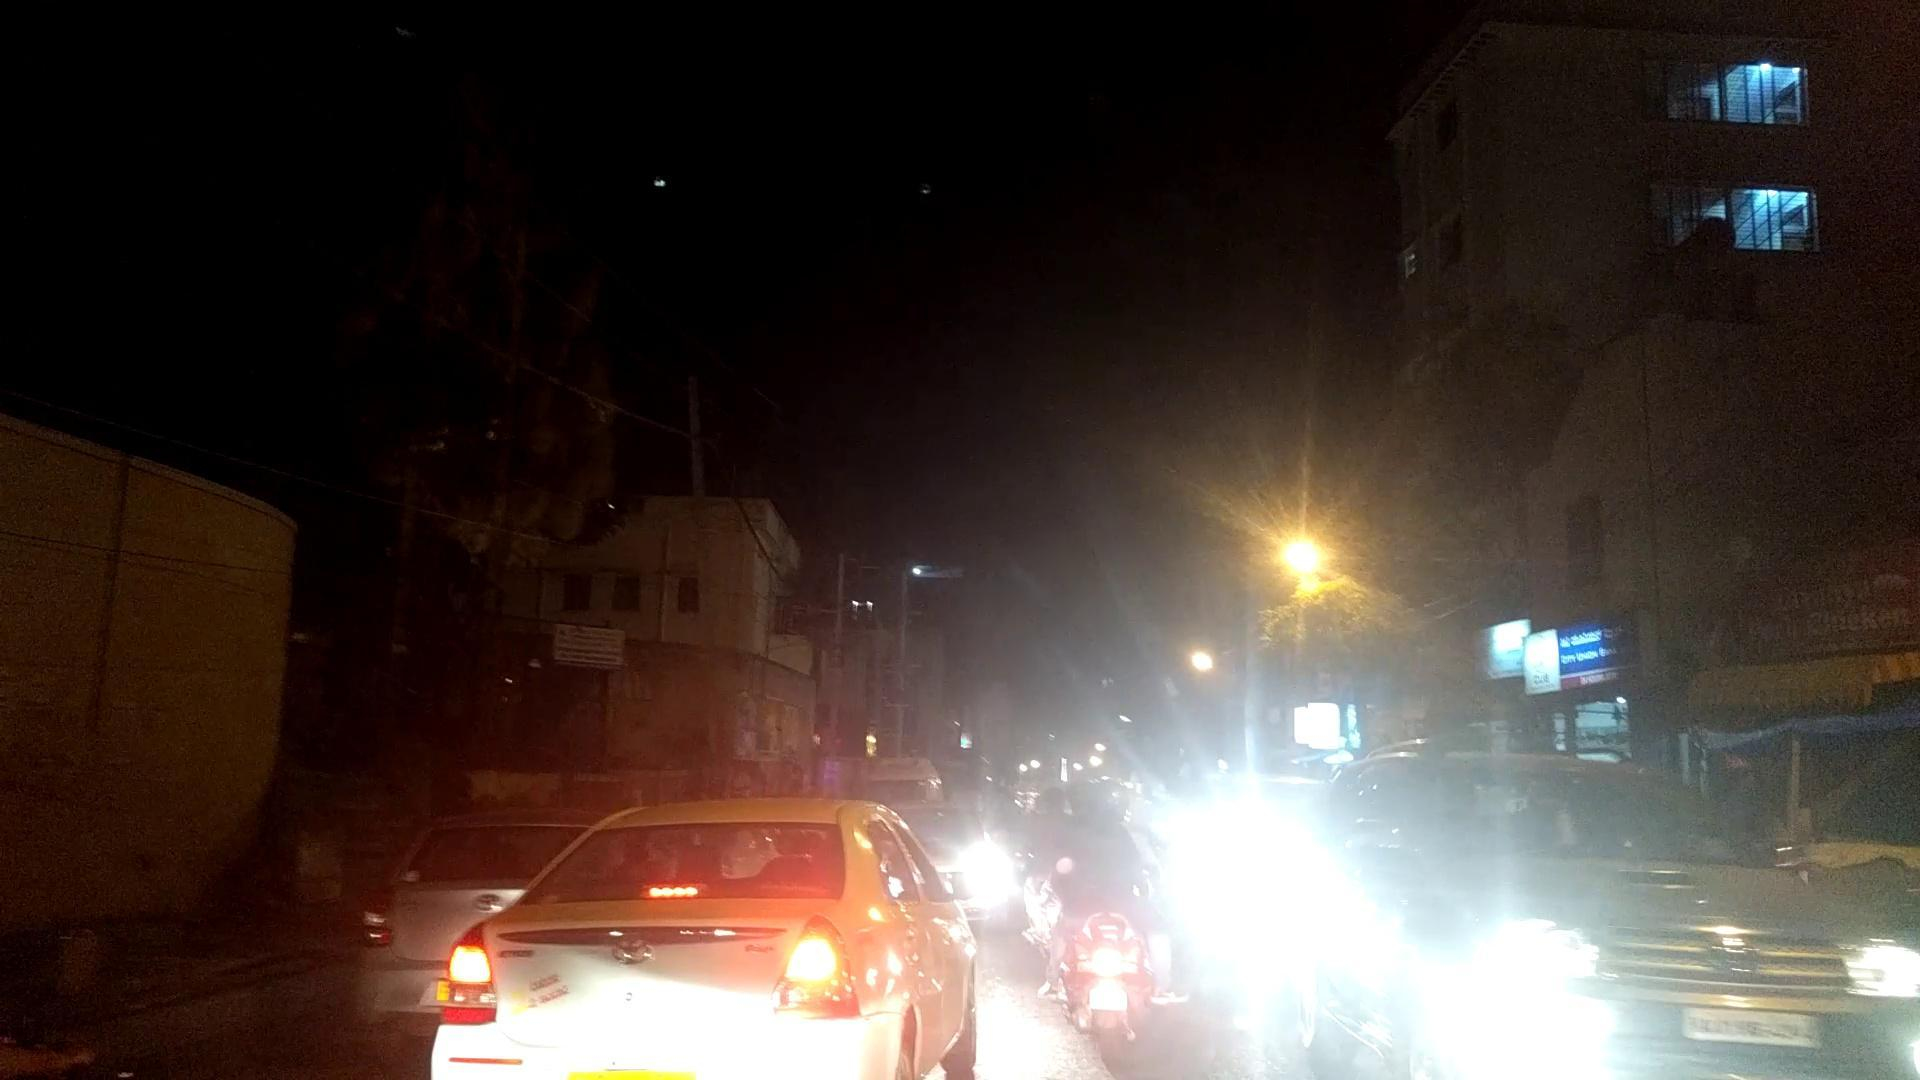on: (1170, 462, 1462, 636)
